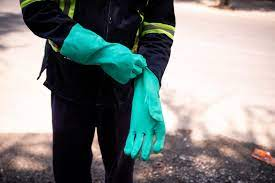gloves: (67, 27, 142, 83), (127, 81, 173, 162)
